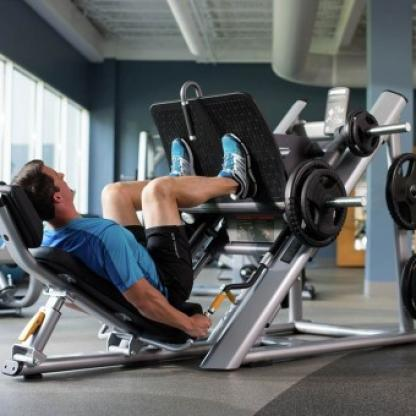leg press: (0, 67, 416, 394)
